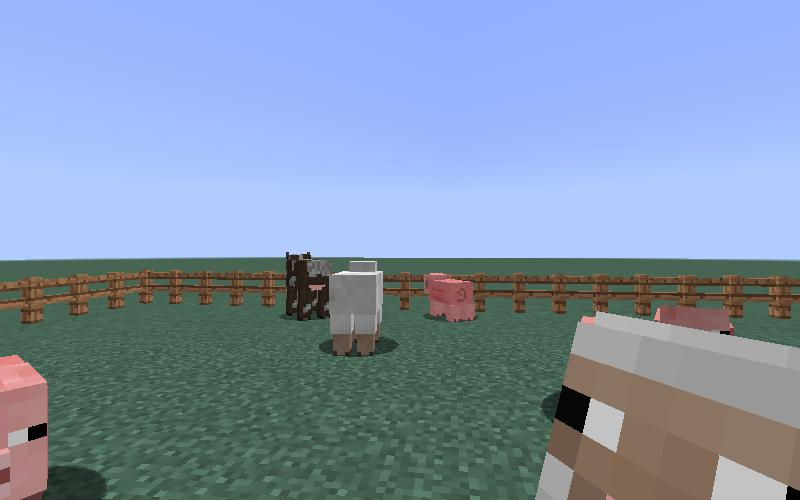cow: (284, 250, 330, 321)
pig: (1, 355, 49, 500), (421, 268, 482, 327)
sheep: (530, 312, 800, 499), (327, 256, 390, 358)
